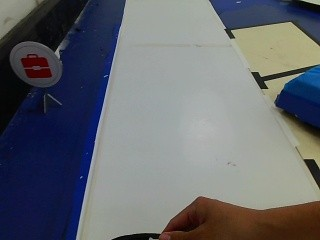company: (8, 43, 59, 90)
